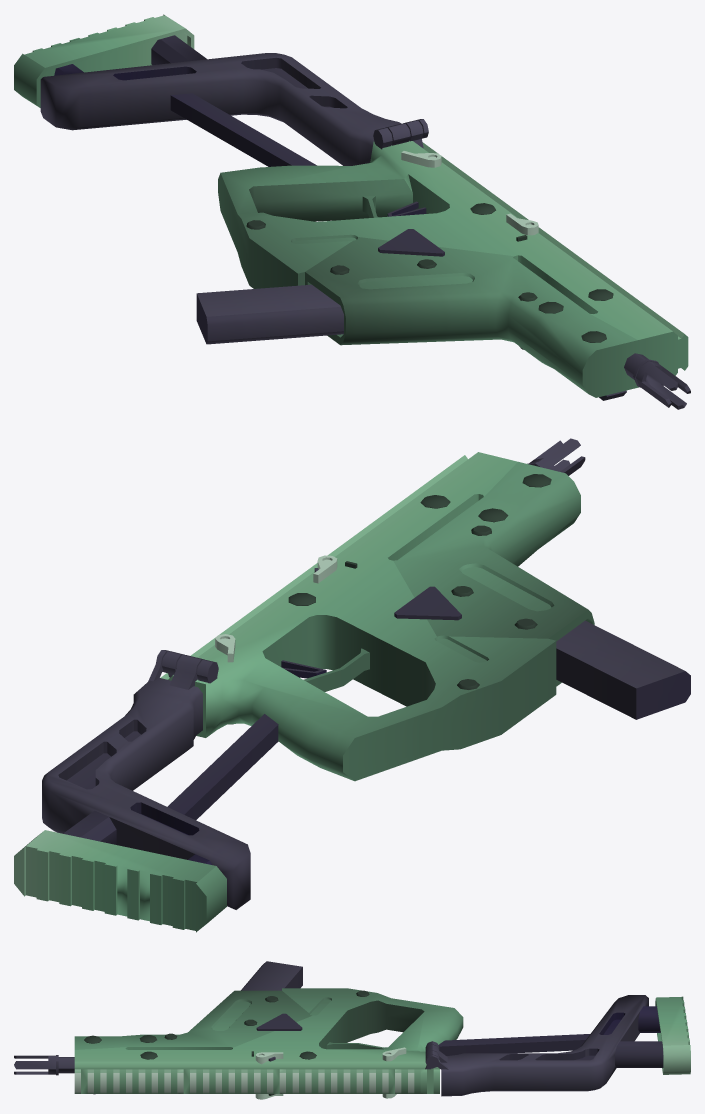
Rendered from PP_LVL2.fbx.
3 renders of one model, top to bottom at view 1: azimuth 30°, elevation 25°; view 2: azimuth 150°, elevation 25°; view 3: azimuth 270°, elevation 25°, orthographic. The views are drawn at different scales.
Parts seen in each view (by area): view 1: Object006; view 2: Object006; view 3: Object006.
Boxes of the visible parts, box(x1,y1,x2,y2) form: Object006: box(14, 14, 690, 409); Object006: box(14, 438, 690, 932); Object006: box(14, 961, 690, 1099).
Size of the model in its own units: 42.97 by 9.65 by 108.
